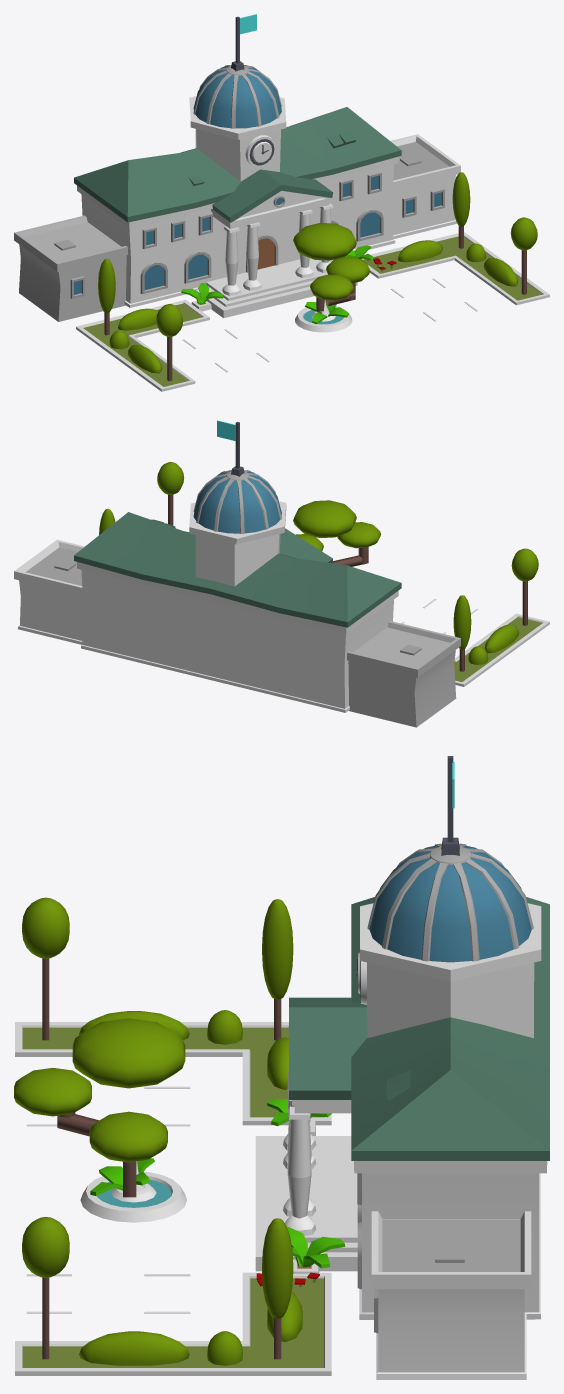
File: town_hall.fbx
3 views of the same model, one above another, from view 1: azimuth 30°, elevation 25°; view 2: azimuth 150°, elevation 25°; view 3: azimuth 270°, elevation 25° (orthographic). The views are drawn at different scales.
Visible parts, largest first — view 1: pCube2, pCube1, pCube47, pCube159, pCube38, pCylinder3, pCube7, pCube5, pCube165, pSphere46, pCube30, pCube4 (+19 smaller); view 2: pCube1, pCube2, pCube47, pCube38, pCube7, pCylinder3, pCube6, pSphere46, pCube159, pCylinder6, pCube5, pSphere48 (+4 smaller); view 3: pCube2, pCube38, pCube159, pCube7, pCylinder3, pCube1, pCube5, pSphere46, pCube30, pCylinder6, pCube165, pSphere47 (+16 smaller).
Boxes of the visible parts, left/top/right/bottom form: pCube2: left=74, top=107, right=401, bottom=222; pCube1: left=81, top=164, right=395, bottom=307; pCube47: left=14, top=215, right=128, bottom=321; pCube159: left=76, top=232, right=549, bottom=391; pCube38: left=390, top=134, right=460, bottom=239; pCylinder3: left=193, top=65, right=281, bottom=128; pCube7: left=189, top=96, right=286, bottom=181; pCube5: left=212, top=169, right=333, bottom=222; pCube165: left=222, top=203, right=333, bottom=295; pSphere46: left=293, top=223, right=356, bottom=260; pCube30: left=206, top=258, right=327, bottom=300; pCube4: left=211, top=191, right=331, bottom=228; pCube1: left=81, top=569, right=393, bottom=712; pCube2: left=74, top=512, right=401, bottom=627; pCube47: left=347, top=621, right=460, bottom=727; pCube38: left=14, top=539, right=84, bottom=644; pCube7: left=189, top=501, right=286, bottom=586; pCylinder3: left=193, top=470, right=281, bottom=533; pCube6: left=76, top=562, right=398, bottom=634; pSphere46: left=293, top=500, right=356, bottom=537; pCube159: left=454, top=613, right=549, bottom=686; pCylinder6: left=193, top=470, right=281, bottom=533; pCube5: left=280, top=528, right=332, bottom=562; pSphere48: left=337, top=522, right=380, bottom=548; pCube2: left=351, top=897, right=549, bottom=1160; pCube38: left=371, top=1211, right=531, bottom=1379; pCube159: left=15, top=1022, right=331, bottom=1375; pCube7: left=360, top=903, right=541, bottom=1038; pCylinder3: left=369, top=846, right=531, bottom=962; pCube1: left=359, top=1173, right=540, bottom=1319; pCube5: left=289, top=997, right=367, bottom=1099; pSphere46: left=72, top=1018, right=185, bottom=1088; pCube30: left=278, top=1136, right=357, bottom=1242; pCylinder6: left=367, top=843, right=533, bottom=961; pCube165: left=283, top=1026, right=316, bottom=1235; pSphere47: left=89, top=1111, right=167, bottom=1162.
Bounding box in the file's own units: 29.11 × 16.93 × 18.14.
